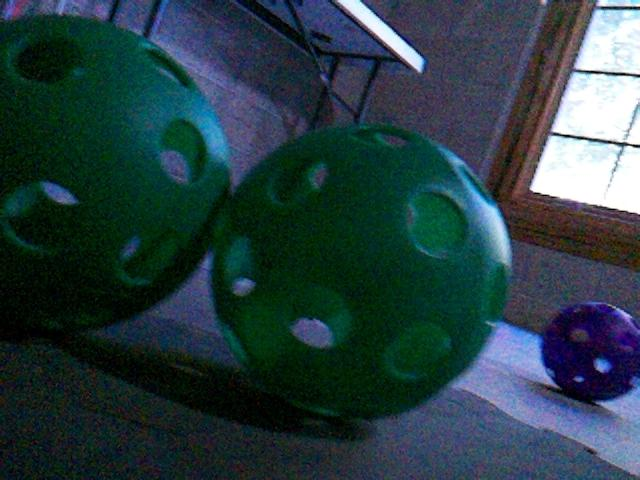Green: (208, 125, 508, 421), (0, 14, 236, 335)
Purple: (539, 302, 640, 403)
